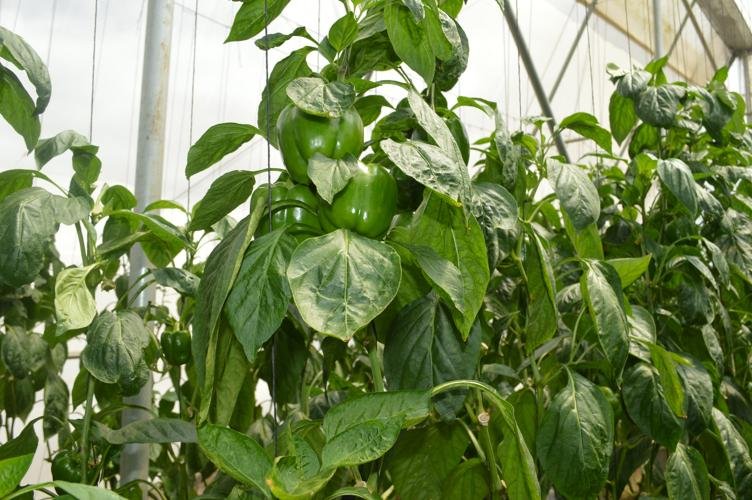BellPepper: (273, 105, 363, 187), (329, 164, 401, 240), (256, 182, 326, 241)
